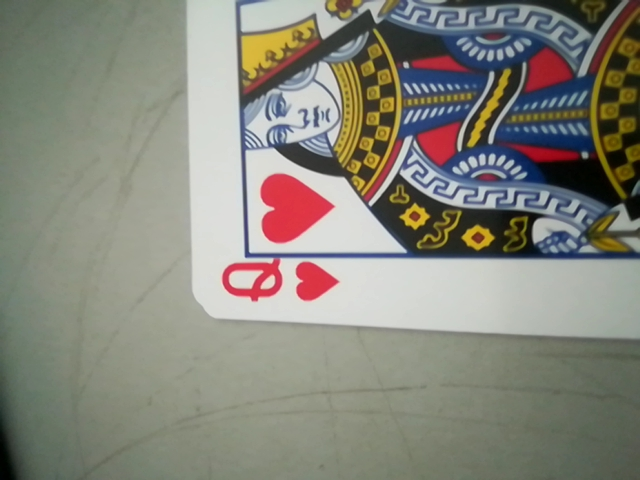hx q: (212, 253, 346, 315)
